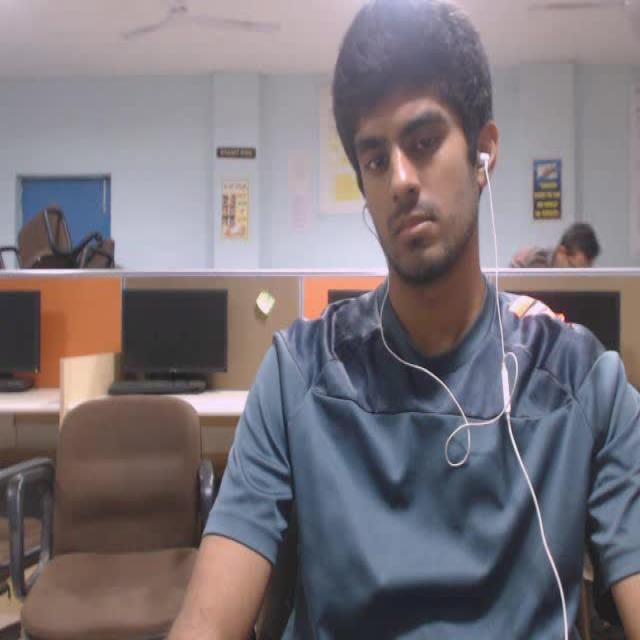Engaged: (274, 0, 538, 305)
